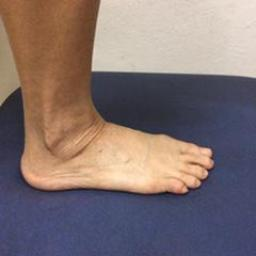Lateral View -Right Foot-: (15, 83, 223, 205)
